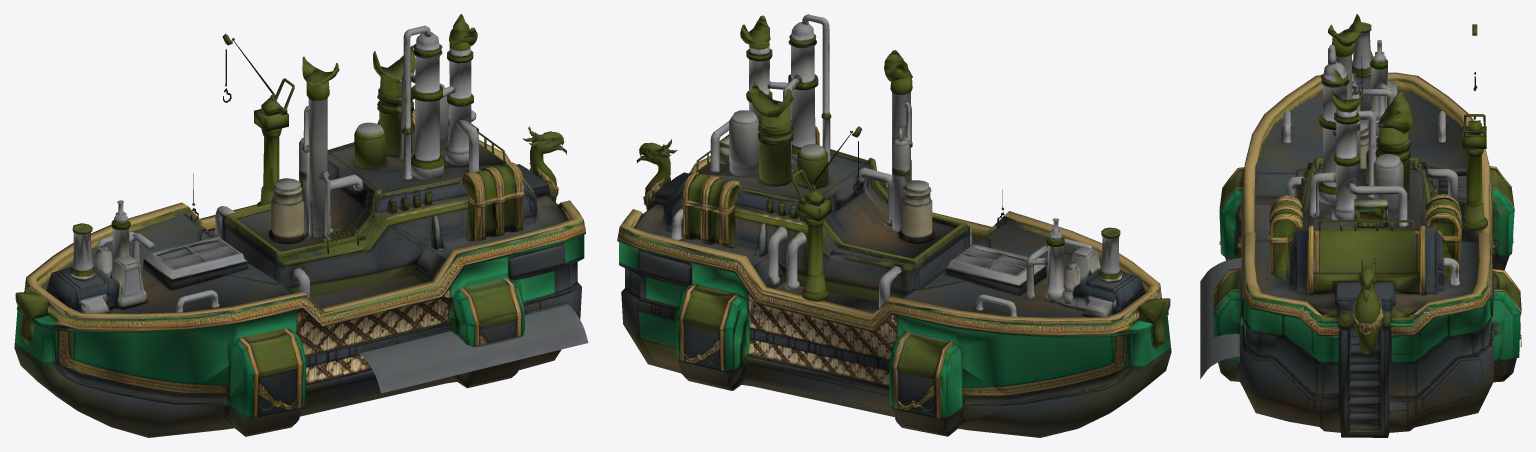
Rendered from tide_refinery.glb.
3 views of the same model, side by side, from view 1: azimuth 30°, elevation 25°; view 2: azimuth 150°, elevation 25°; view 3: azimuth 270°, elevation 25° (orthographic). The views are drawn at different scales.
Visible parts, largest first — view 1: Body, Trim; view 2: Body, Trim; view 3: Body, Trim.
Part boxes in pixels (bbox=[...]): Body: bbox=[14, 14, 588, 437]; Trim: bbox=[14, 232, 585, 418]; Body: bbox=[617, 14, 1171, 437]; Trim: bbox=[617, 239, 1171, 417]; Body: bbox=[1200, 14, 1521, 437]; Trim: bbox=[1213, 188, 1521, 364].
Size of the model in its own units: 18 by 10.81 by 9.41.
Materials: 2 (2 with a texture image).
